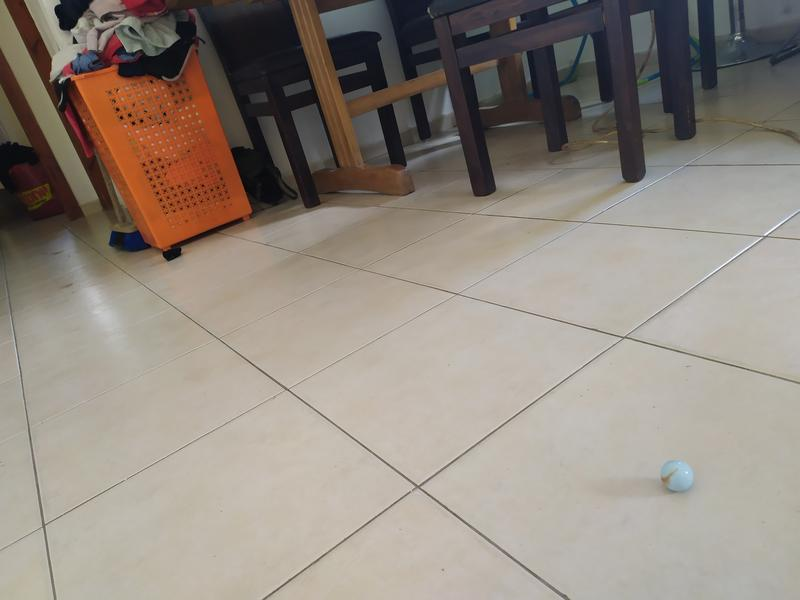Warning: (658, 456, 696, 494)
